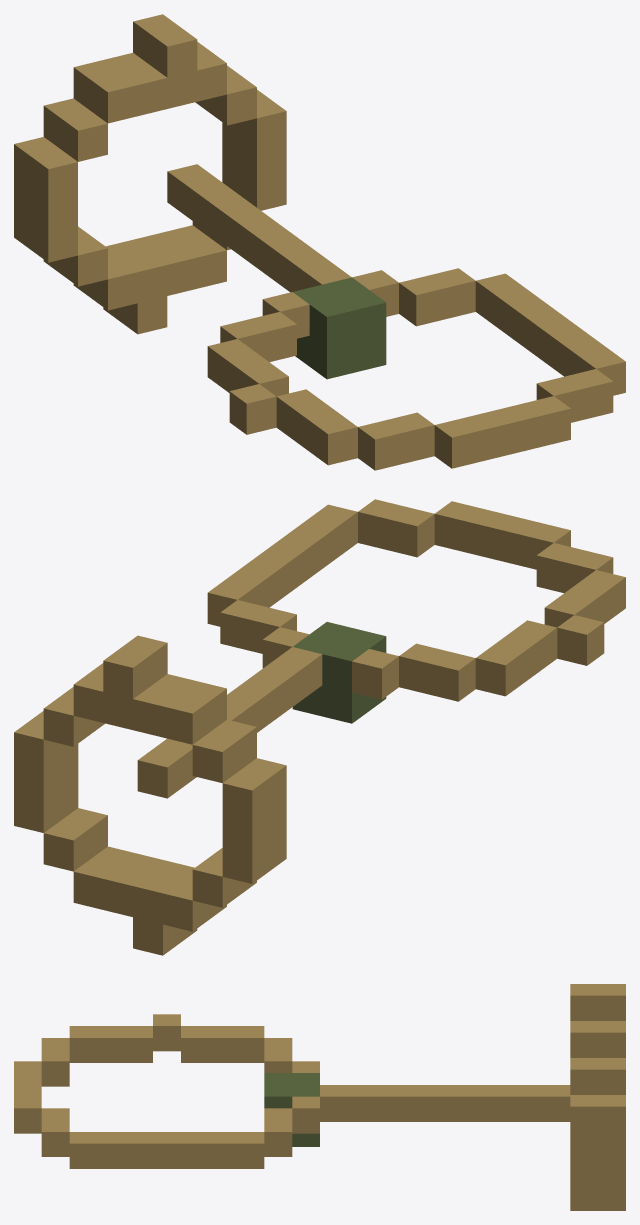
Rendered from vox_lasso.glb.
3 renders of one model, top to bottom at view 1: azimuth 30°, elevation 25°; view 2: azimuth 150°, elevation 25°; view 3: azimuth 270°, elevation 25°, orthographic. The views are drawn at different scales.
Visible parts, largest first — view 1: vox_lasso; view 2: vox_lasso; view 3: vox_lasso.
Part boxes in pixels (x1,y1,x2,y2): vox_lasso: (14, 14, 625, 470); vox_lasso: (14, 499, 625, 955); vox_lasso: (14, 984, 625, 1210).
Bounding box in the file's own units: 0.22 × 0.18 × 0.44.
